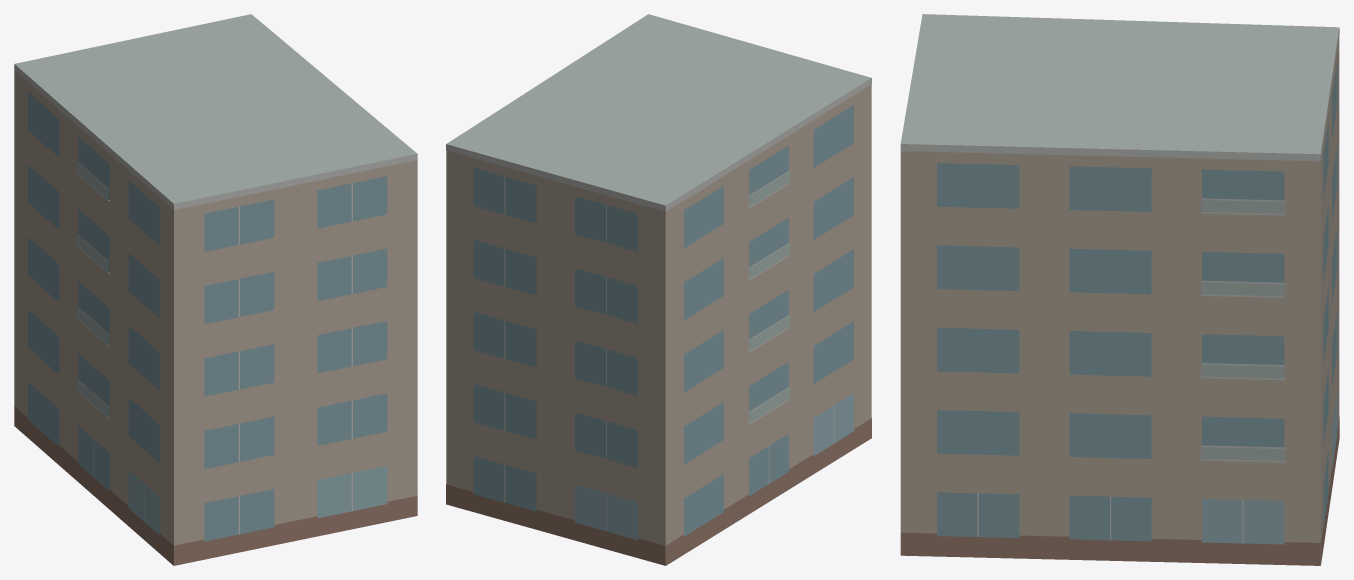
File: survey-upis-33034603.glb
3 renders of one model, left to right at view 1: azimuth 30°, elevation 25°; view 2: azimuth 150°, elevation 25°; view 3: azimuth 270°, elevation 25°, orthographic. The views are drawn at different scales.
Parts seen in each view (by area): view 1: survey-upis-33034603.tmp; view 2: survey-upis-33034603.tmp; view 3: survey-upis-33034603.tmp.
Part boxes in pixels (x1,y1,x2,y2): survey-upis-33034603.tmp: (14,14,417,565); survey-upis-33034603.tmp: (446,14,871,565); survey-upis-33034603.tmp: (900,14,1339,565).
Size of the model in its own units: 10.24 by 14 by 13.54.
